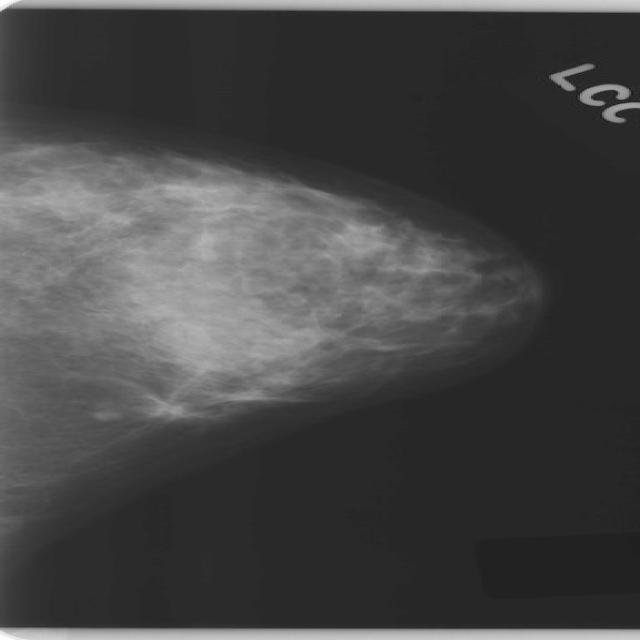tumour: (136, 387, 198, 420)
